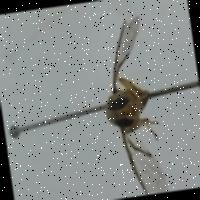Oriental-fruit-fly: (82, 3, 187, 200)
